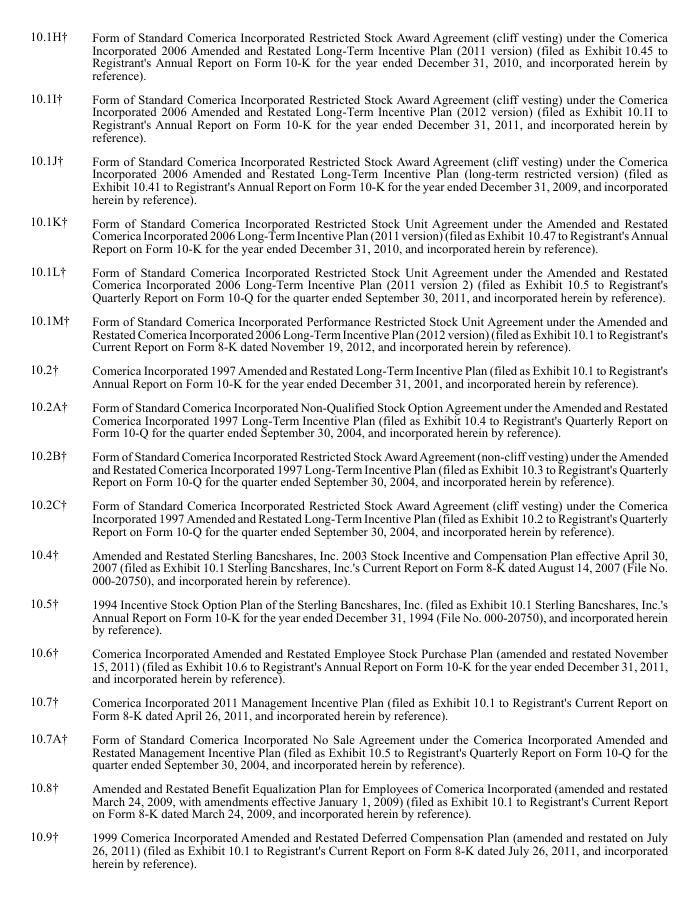table: (29, 28, 667, 869)
table column: (80, 28, 667, 869), (29, 28, 80, 869)
table row: (29, 147, 667, 209), (29, 86, 667, 147), (29, 28, 667, 86), (29, 258, 667, 308), (29, 541, 667, 591), (29, 209, 667, 258), (29, 308, 667, 357), (29, 394, 667, 443), (29, 443, 667, 492), (29, 492, 667, 541), (29, 591, 667, 640), (29, 640, 667, 689), (29, 726, 667, 775), (29, 775, 667, 824), (29, 824, 667, 869), (29, 357, 667, 394), (29, 689, 667, 726)
